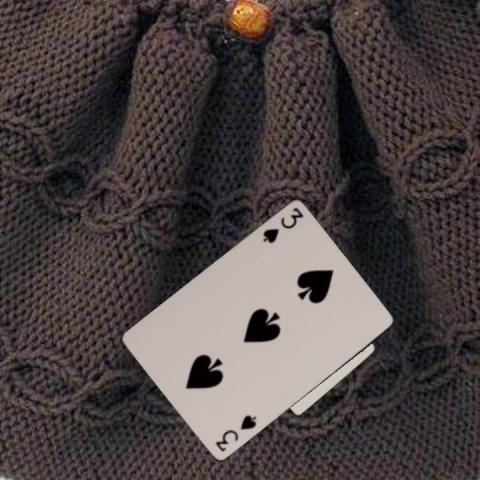3s: (213, 412, 258, 454), (259, 205, 306, 245)
